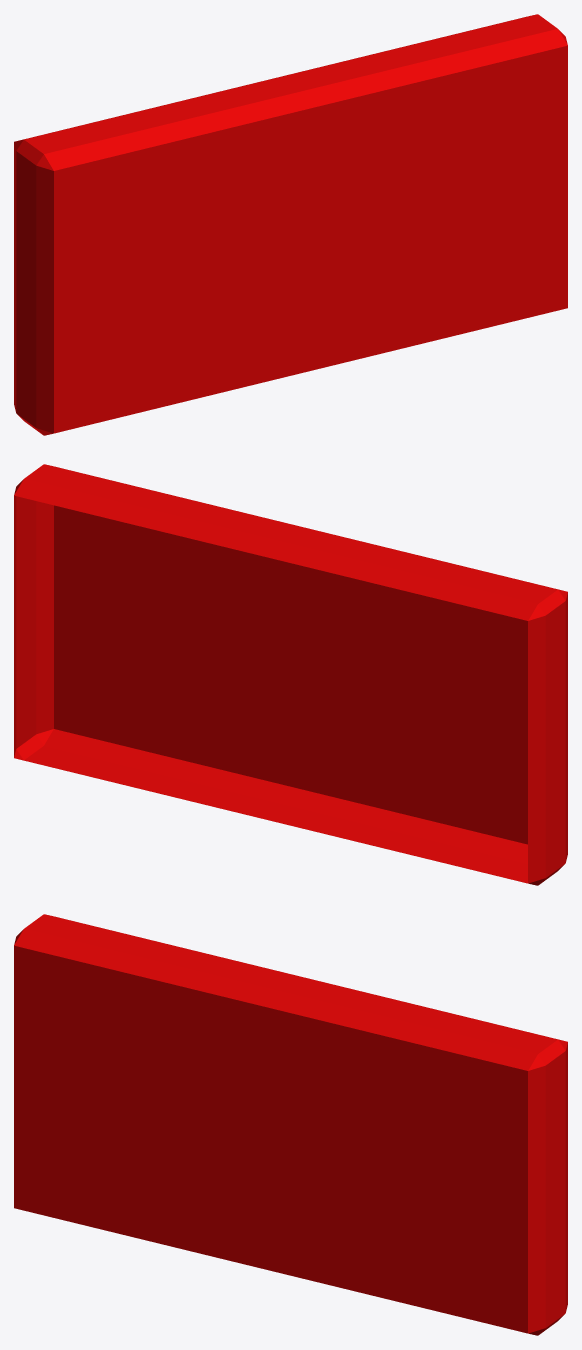
The model's file is SetoExitSign.fbx.
The picture shows the model from 3 angles, top to bottom: view 1: azimuth 30°, elevation 25°; view 2: azimuth 150°, elevation 25°; view 3: azimuth 330°, elevation 25°; orthographic projection.
Parts seen in each view (by area): view 1: ExitSign; view 2: ExitSign; view 3: ExitSign.
Boxes of the visible parts, x1=… form: ExitSign: x1=14, y1=14, x2=567, y2=435; ExitSign: x1=14, y1=464, x2=567, y2=885; ExitSign: x1=14, y1=914, x2=567, y2=1335.
Bounding box in the file's own units: 0.6424 × 0.3265 × 0.084.
